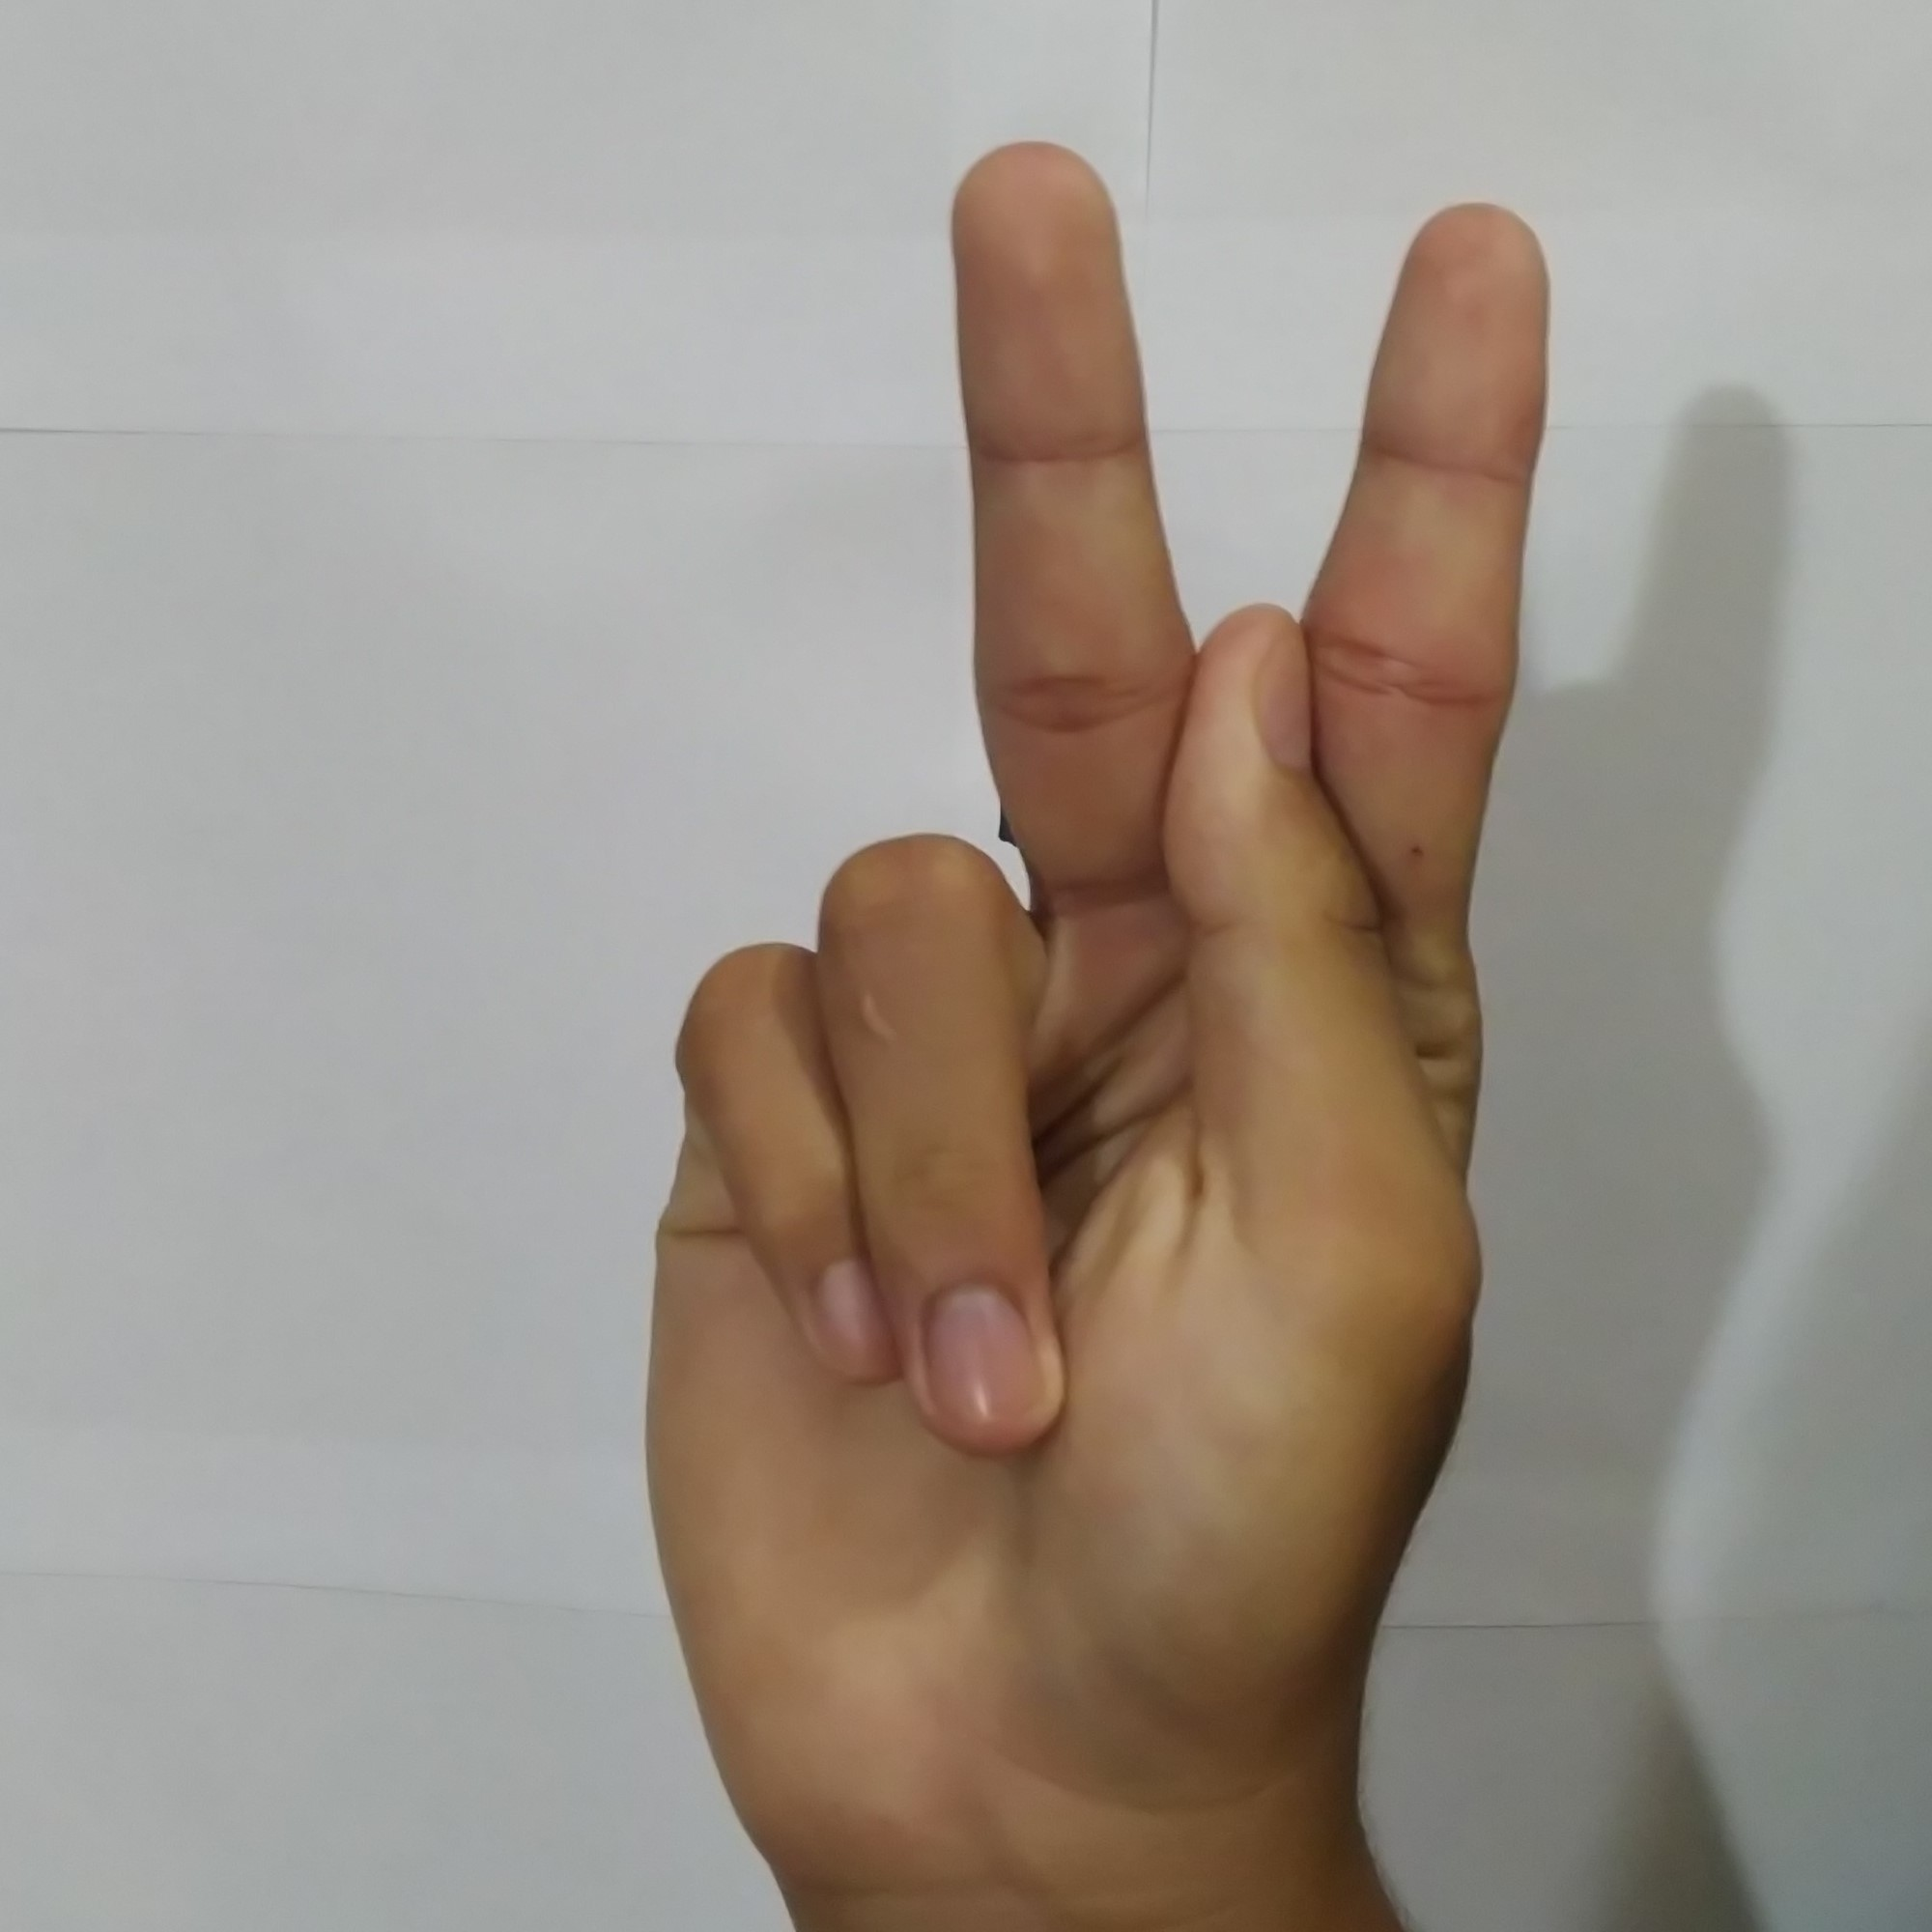K: (603, 119, 1580, 1732)
